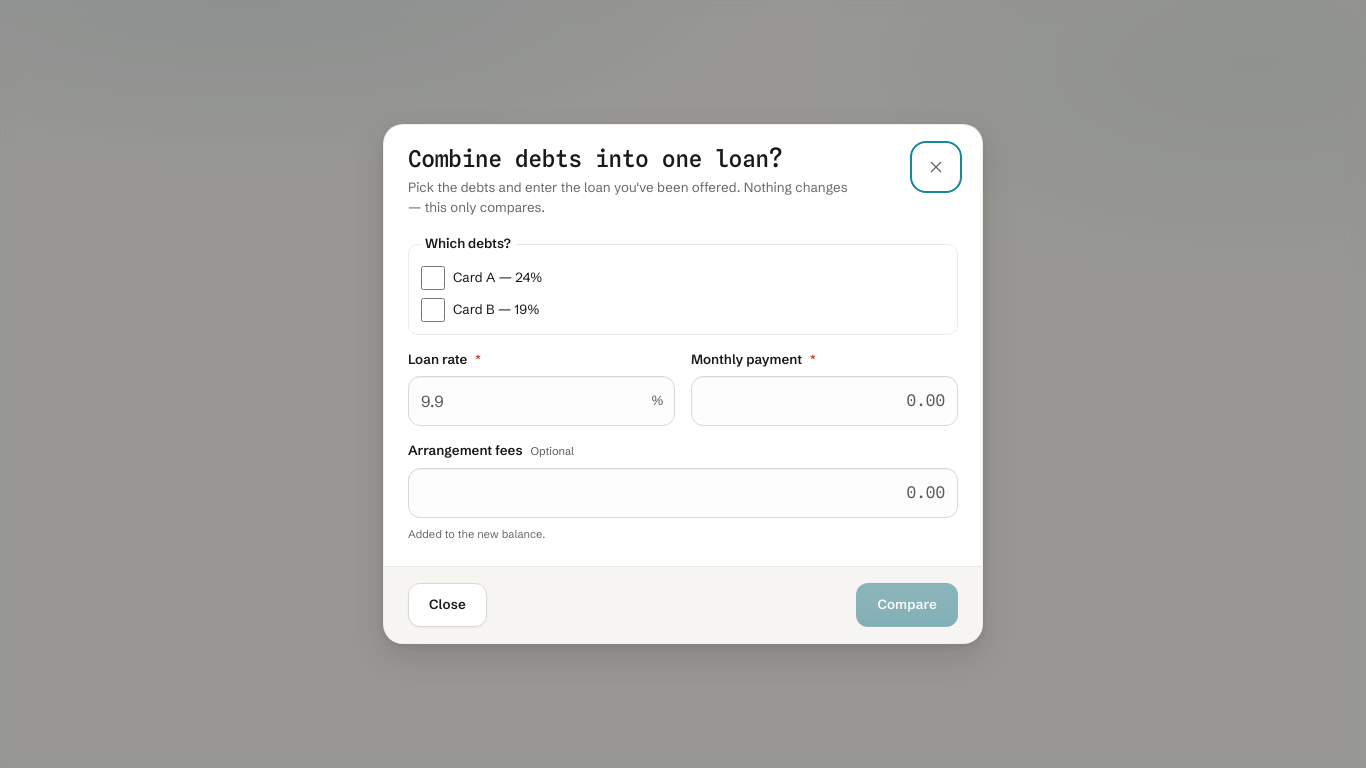
Scenario: ConsolidationModal › shows monthly and total side by side so they can't be confused
Click the checkbox labelled "Card A — 24%" at [433, 278], box [421,266,445,290]
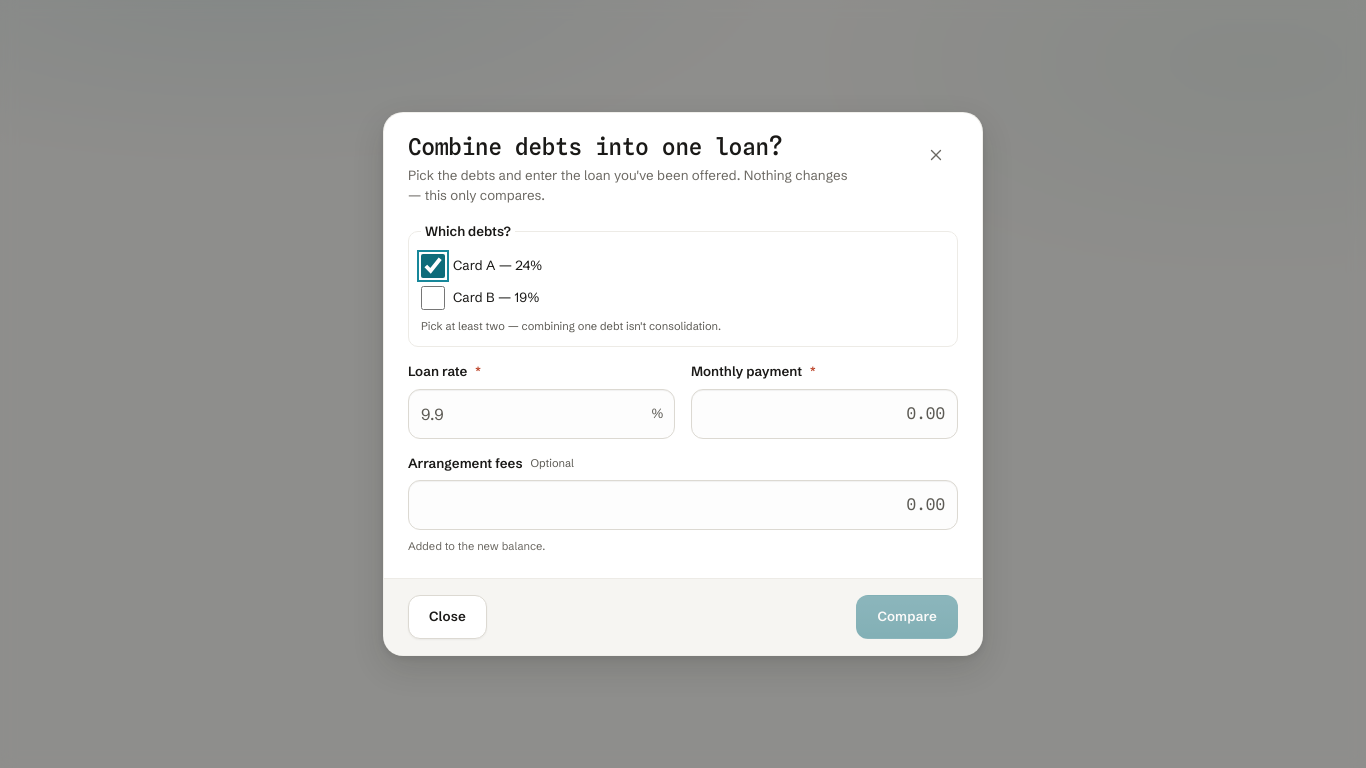
Click the checkbox labelled "Card B — 19%" at [433, 298], box [421,286,445,310]
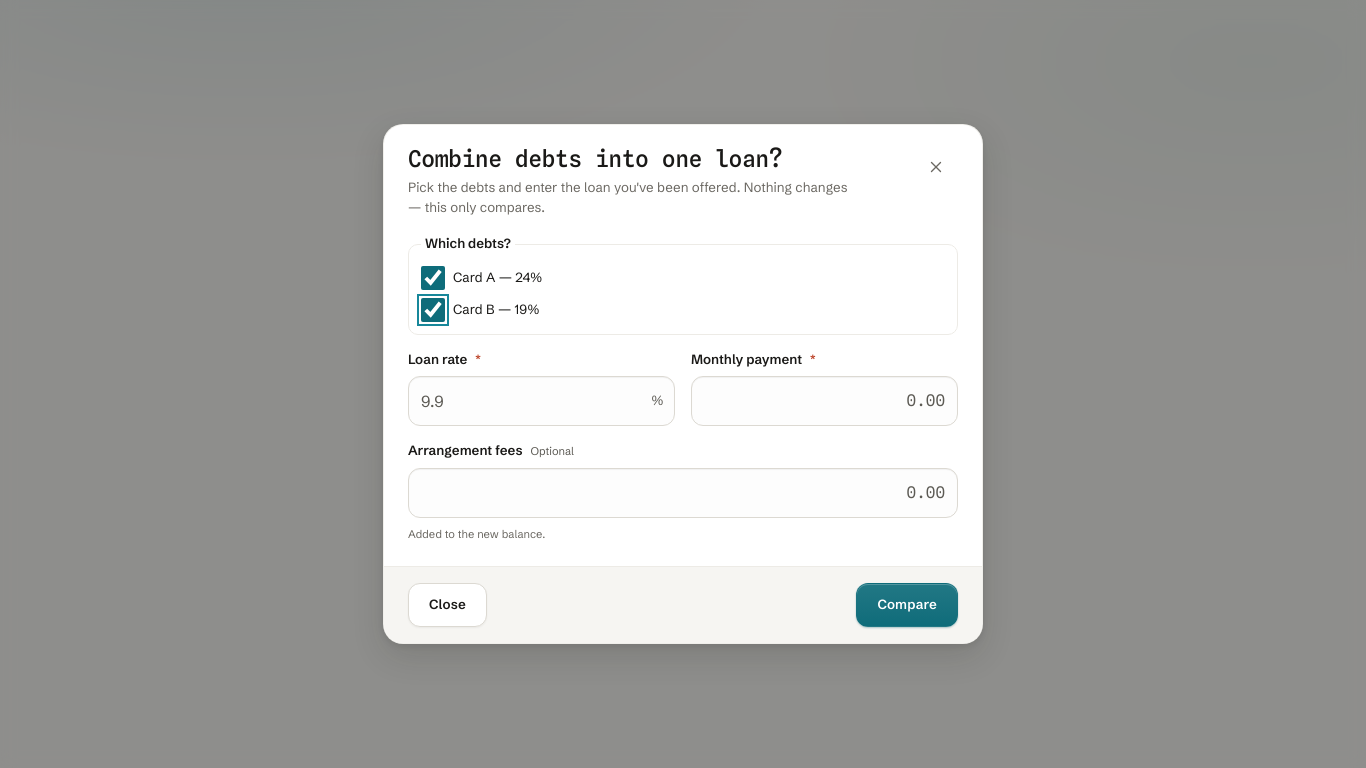
Type "11" into the field labelled "Loan rate *" at [542, 401], box [408,376,675,426]
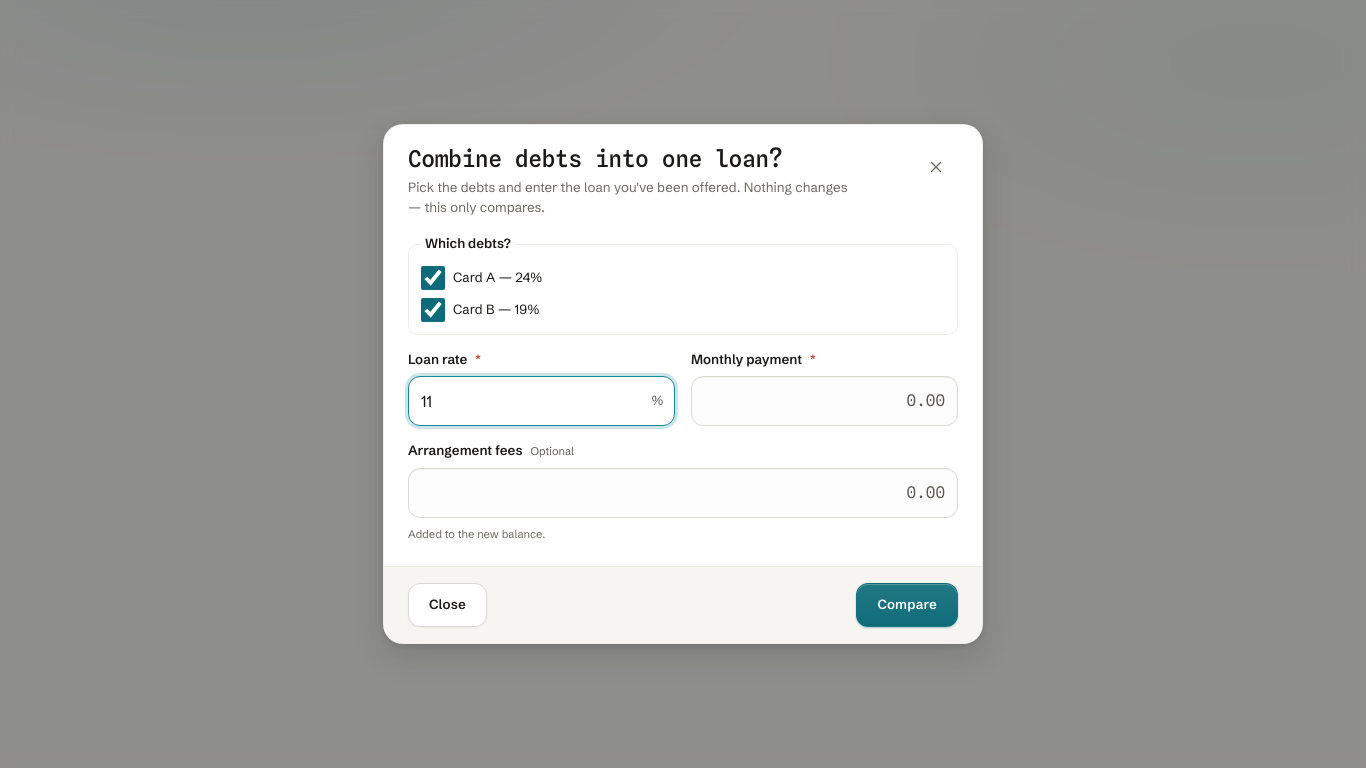
Type "220" into the field labelled "Monthly payment *" at [824, 401], box [691,376,958,426]
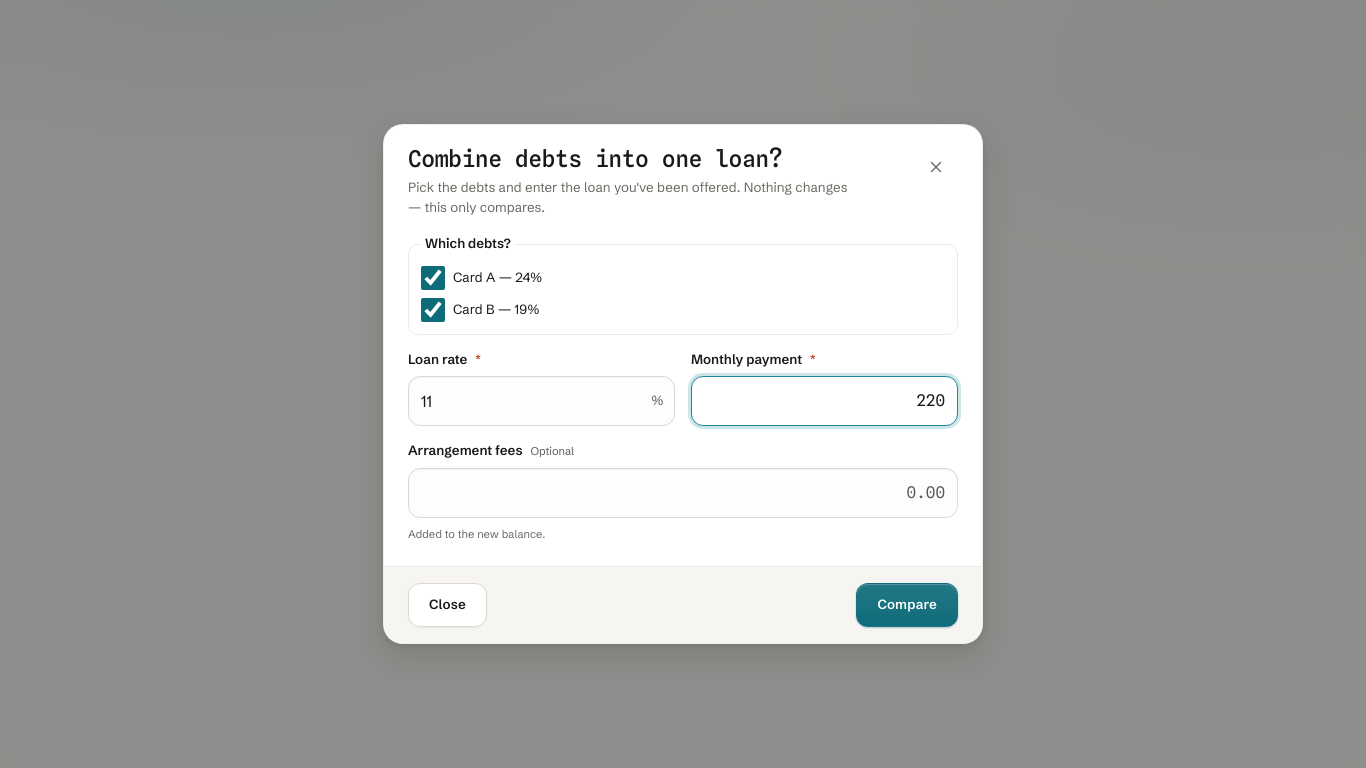
Click the button "Compare" at [907, 605], box [856,583,958,627]
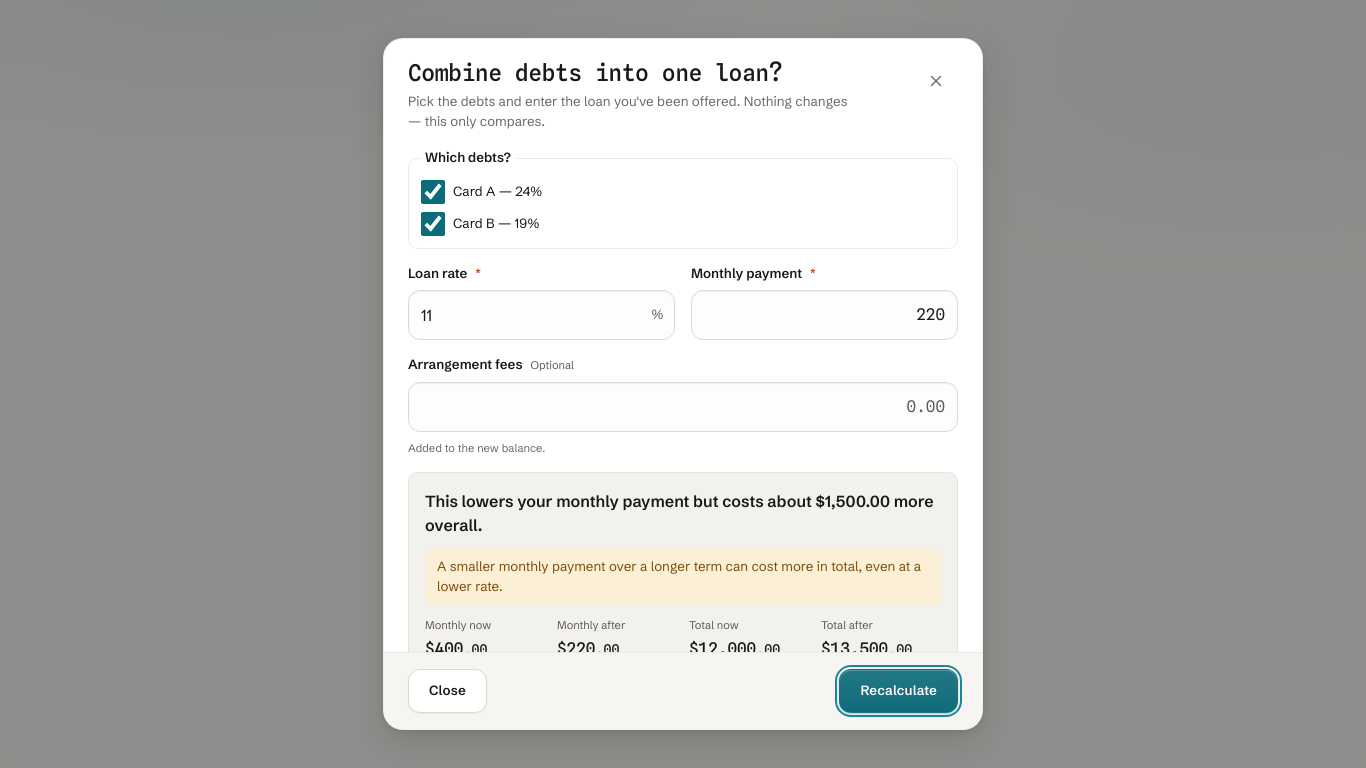
Check: the text "Monthly now" is shown, box [425,618,491,632]
Check: the text "Monthly after" is shown, box [557,618,625,632]
Check: the text "Total now" is shown, box [689,618,739,632]
